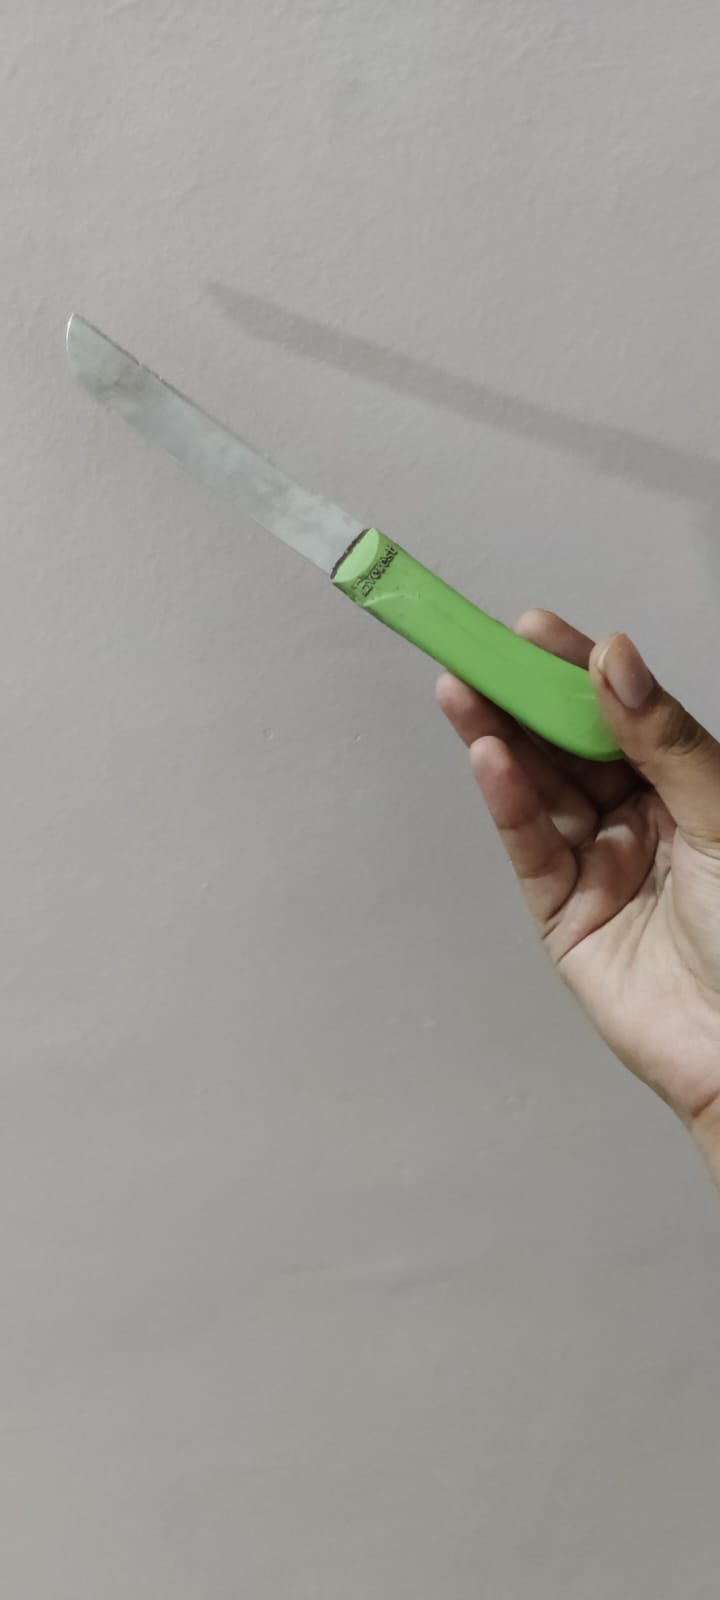knife: (65, 313, 626, 760)
